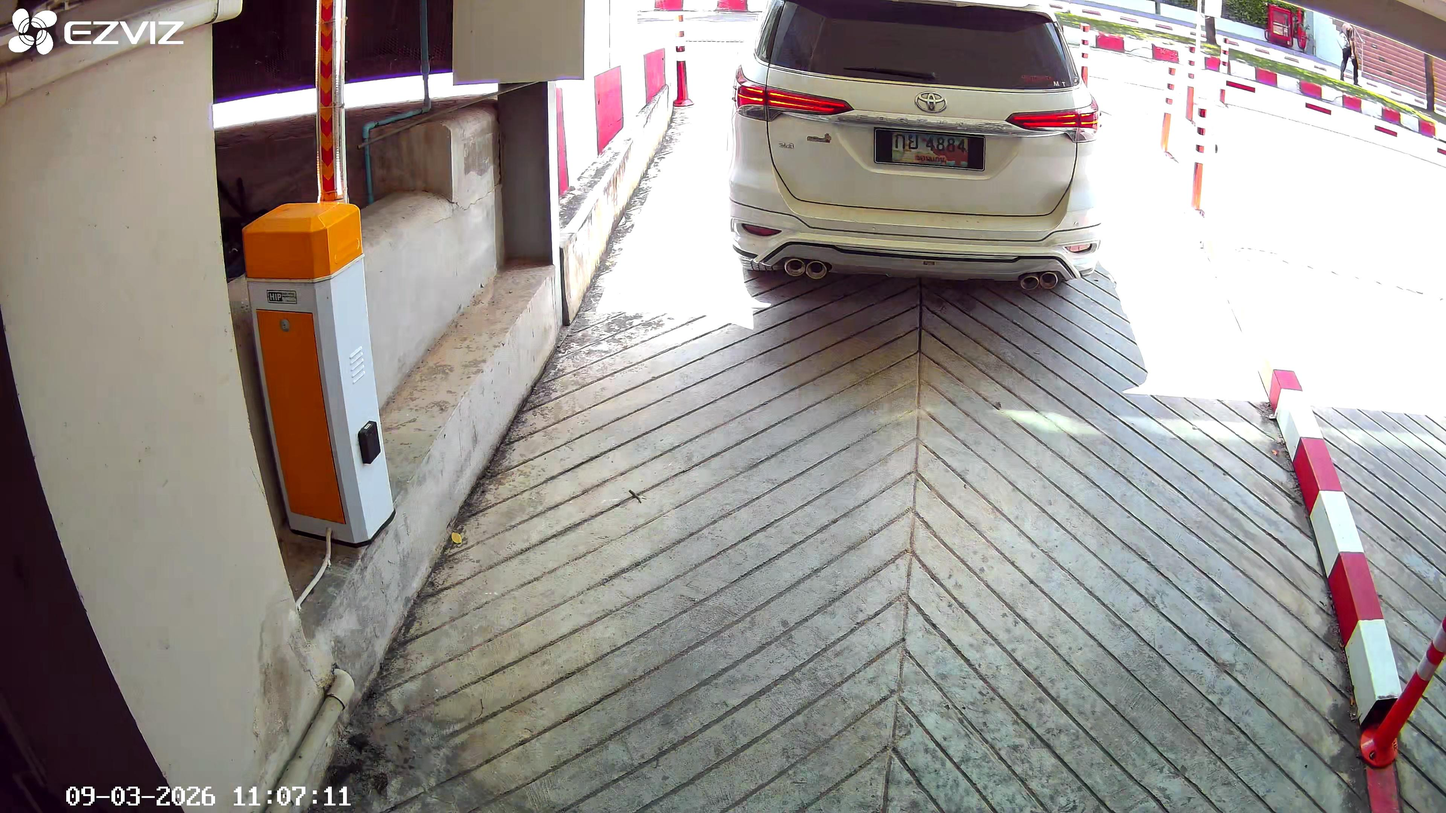car: (728, 3, 1113, 311)
license-plate: (878, 127, 986, 171)
